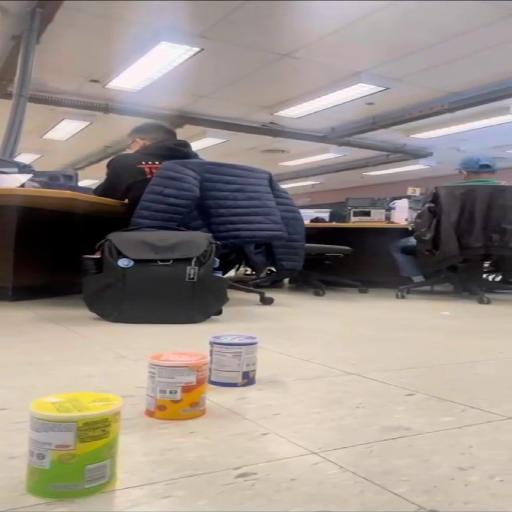pringle can: (27, 391, 118, 499), (146, 351, 208, 420), (211, 334, 259, 388)
